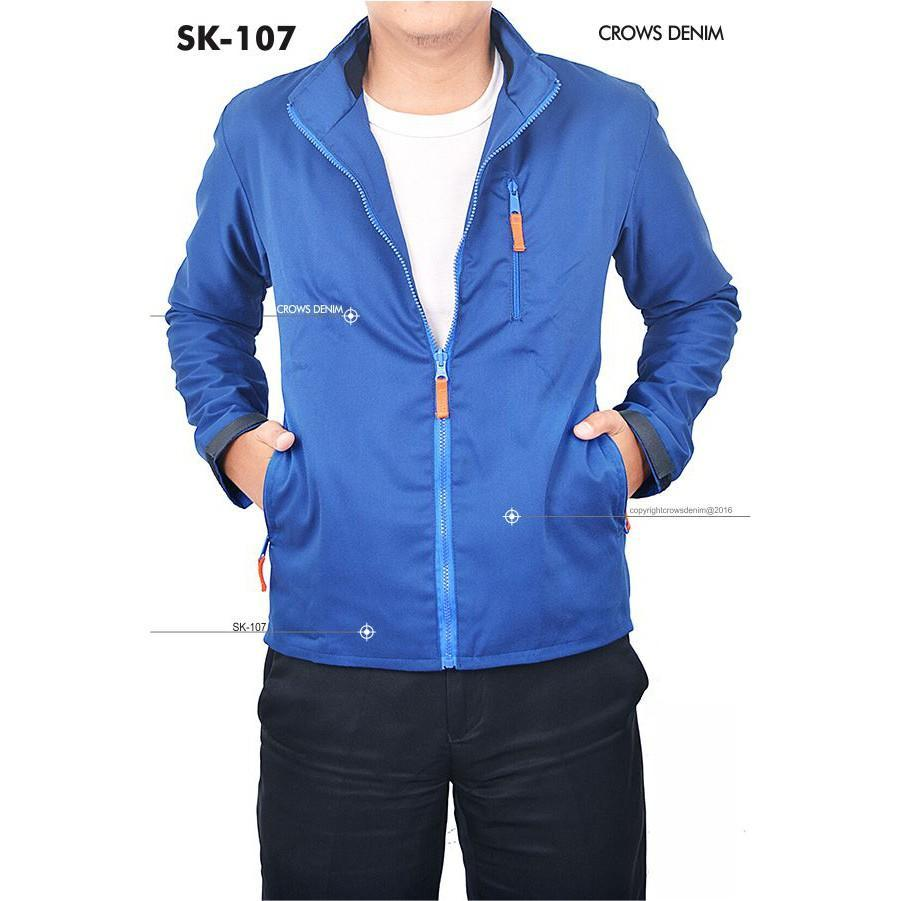sweater: (152, 8, 747, 643)
